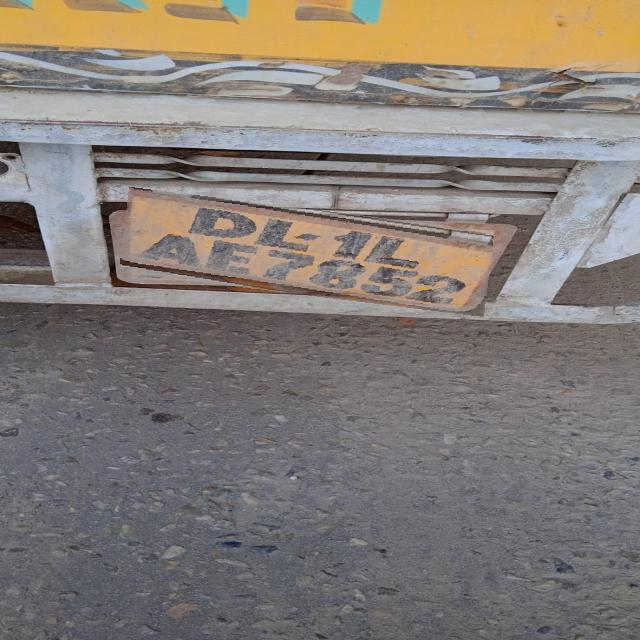License-plate: (121, 198, 493, 306)
